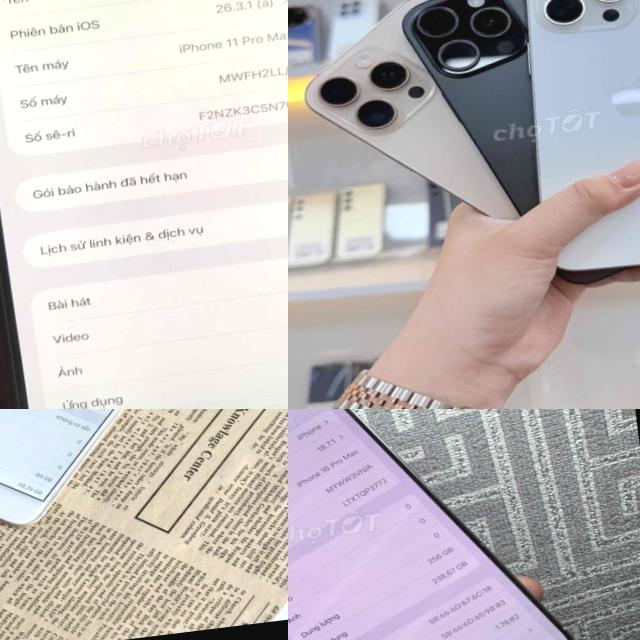gen_11: (0, 0, 288, 409)
gen_16: (288, 409, 570, 640), (497, 0, 640, 286)
gen_6: (0, 409, 215, 541)
